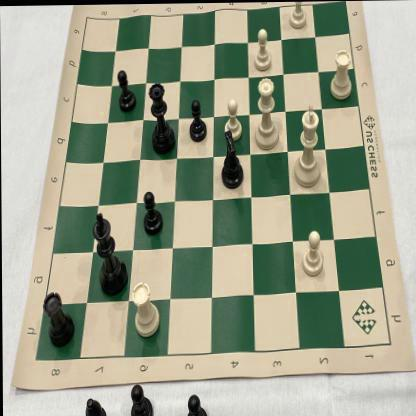black-king: (90, 206, 130, 300)
black-knight: (216, 130, 249, 192)
black-pawn: (140, 186, 162, 237), (188, 96, 210, 145), (116, 66, 137, 113)
black-queen: (147, 80, 178, 156)
black-rook: (44, 288, 76, 349)
white-king: (292, 99, 324, 190)
white-pawn: (300, 225, 328, 281), (222, 94, 246, 144), (252, 25, 275, 72), (289, 2, 310, 34)
white-queen: (252, 72, 281, 154)
white-rook: (129, 275, 162, 343), (328, 47, 356, 104)
